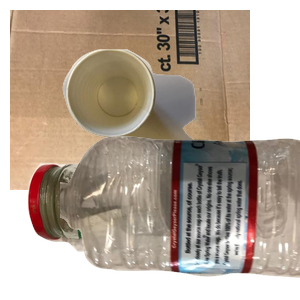cardboard: (10, 10, 250, 190)
glass: (25, 155, 227, 300)
plastic: (60, 134, 300, 300)
trash: (60, 47, 300, 227)
